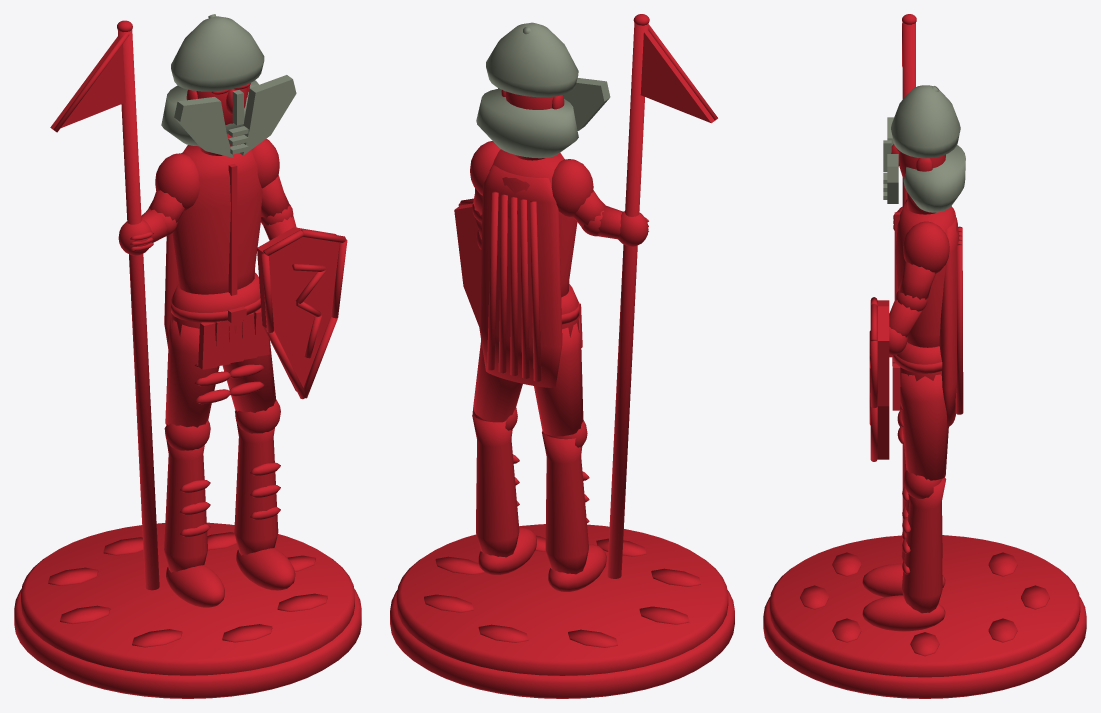
Rendered from knight-level-1-active.fbx.
3 renders of one model, left to right at view 1: azimuth 30°, elevation 25°; view 2: azimuth 150°, elevation 25°; view 3: azimuth 270°, elevation 25°, orthographic. The views are drawn at different scales.
Parts seen in each view (by area): view 1: Knight_Level_1_Helmet_Sculpt; view 2: Knight_Level_1_Helmet_Sculpt; view 3: Knight_Level_1_Helmet_Sculpt.
Boxes of the visible parts, bbox=[...] form: Knight_Level_1_Helmet_Sculpt: bbox=[14, 14, 361, 698]; Knight_Level_1_Helmet_Sculpt: bbox=[390, 14, 734, 698]; Knight_Level_1_Helmet_Sculpt: bbox=[763, 14, 1086, 698].
Size of the model in its own units: 0.012 by 0.024 by 0.012.
